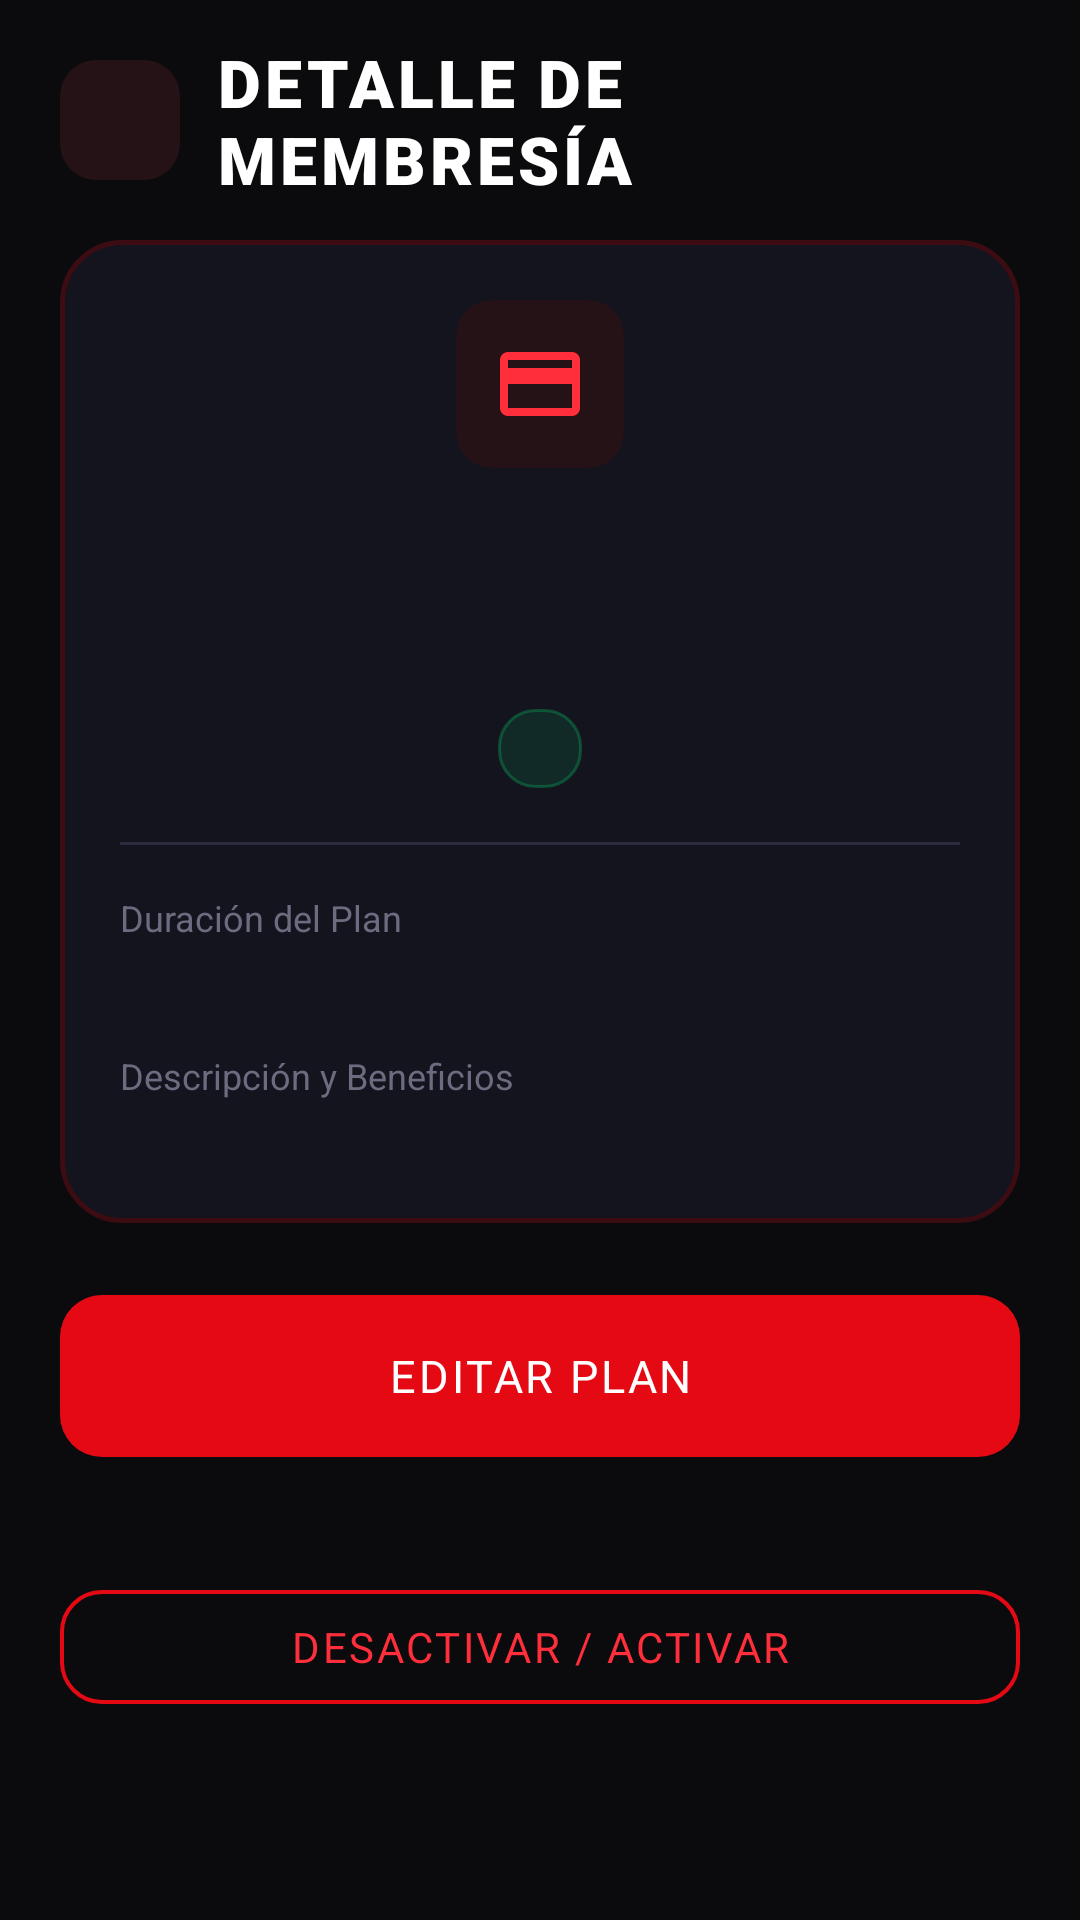

Screen size 1080px x 1920px. Icon name, then its center in pixels as point (x, y):
card membership: point (540, 384)
